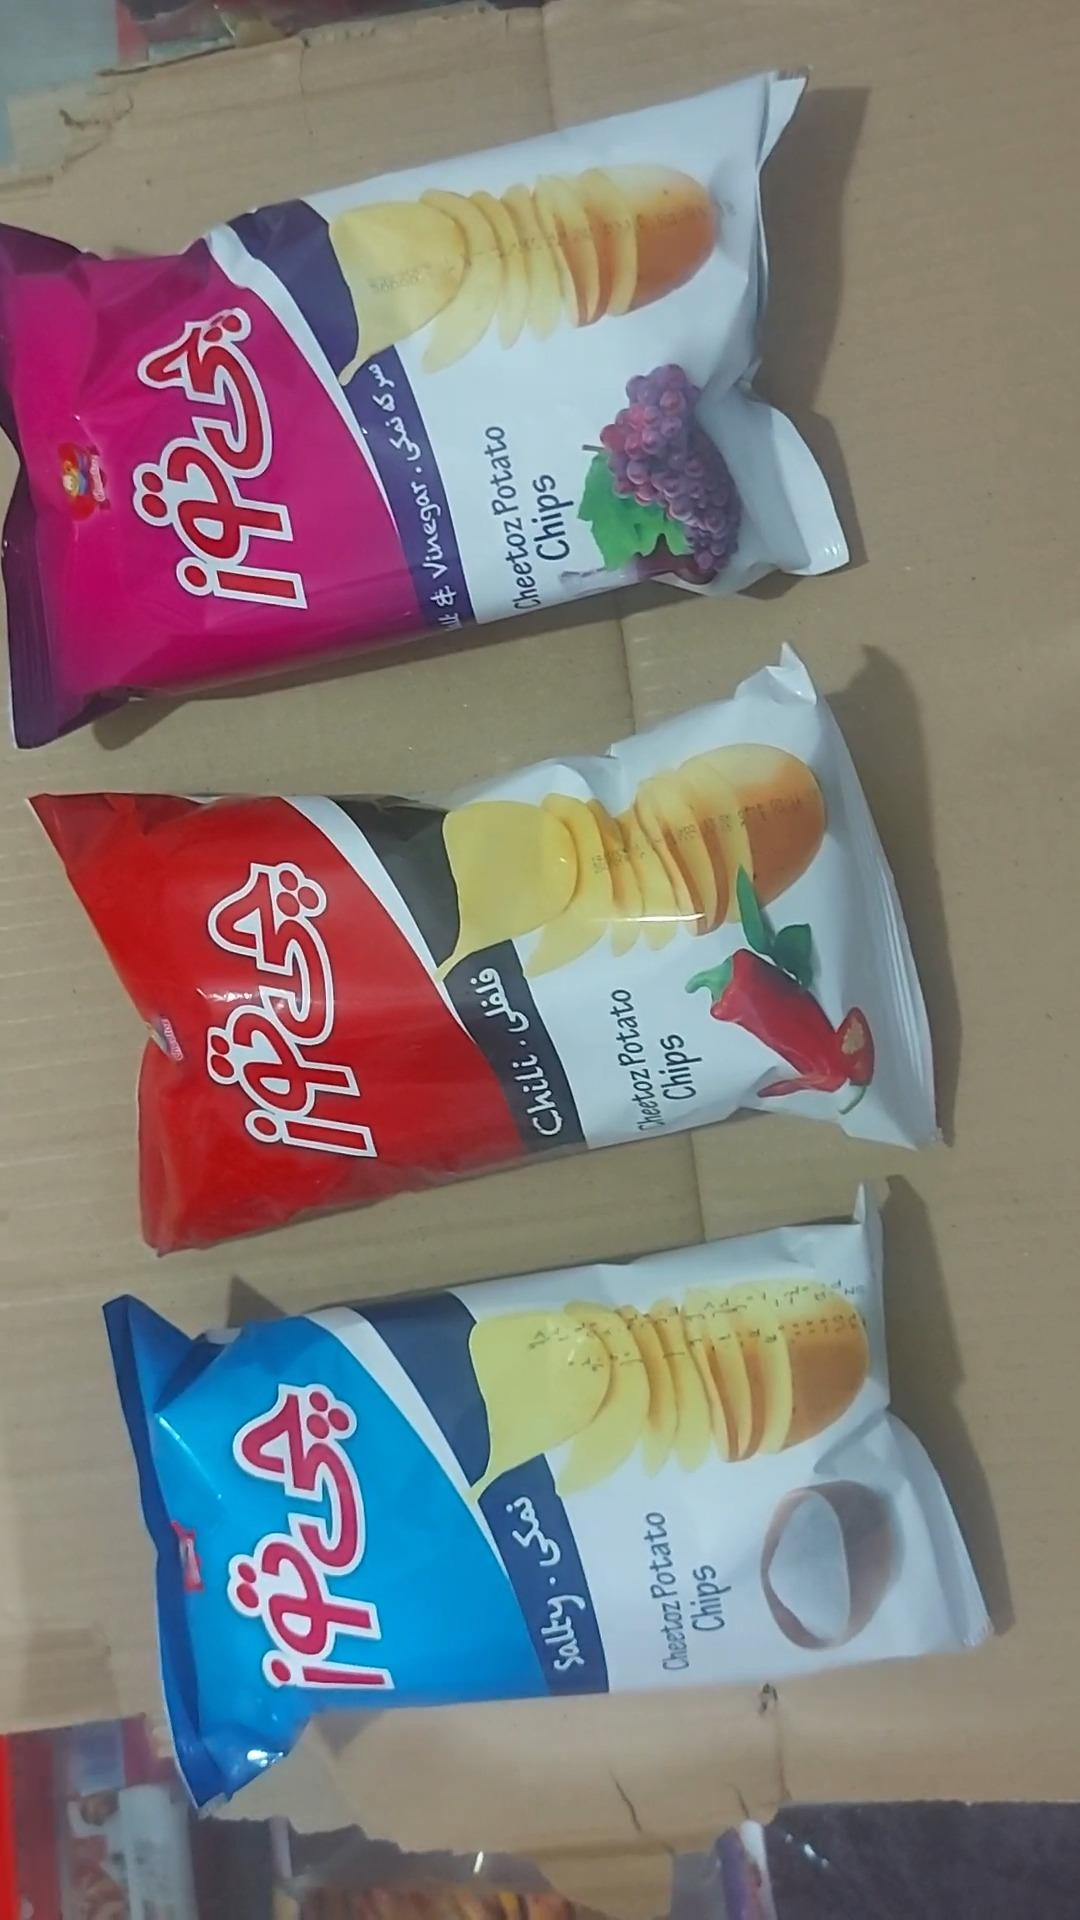Cheetoz chili chips: (28, 641, 947, 1259)
Cheetoz salty chips: (102, 1185, 996, 1818)
Cheetoz vinegar chips: (0, 73, 853, 753)
